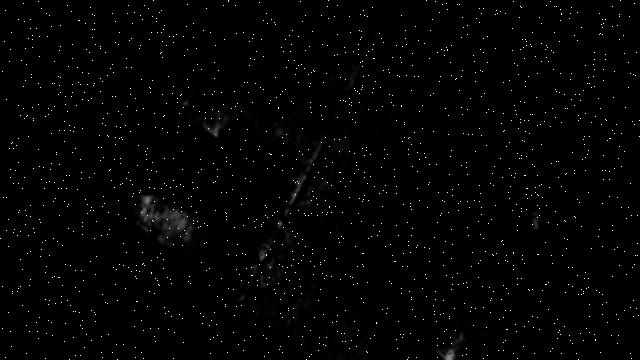pot: (133, 105, 247, 223)
